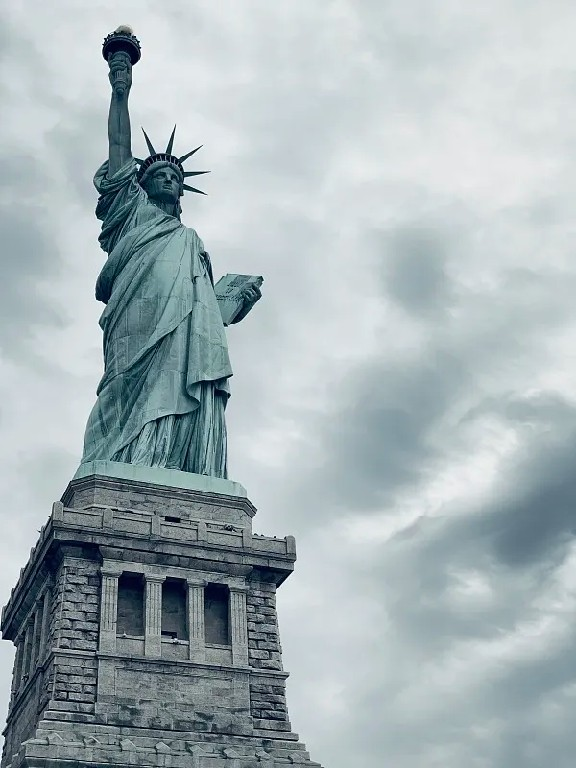SL: (2, 25, 322, 768)
